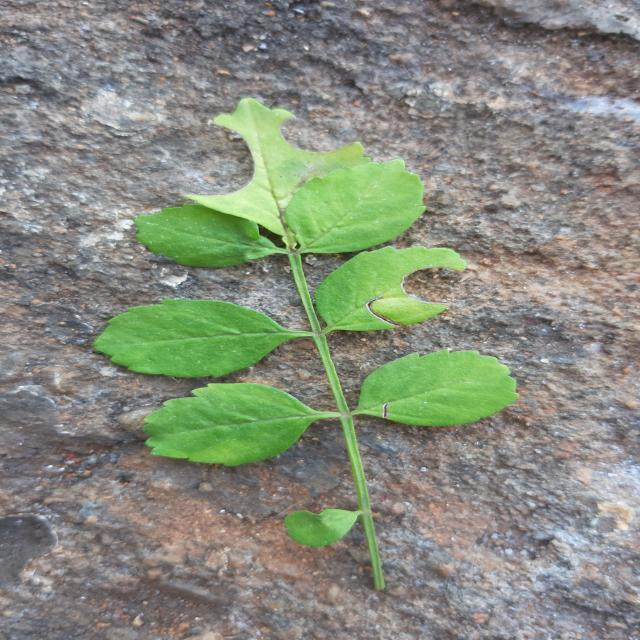defectedtecoma: (136, 99, 424, 268), (313, 248, 464, 331)
tecoma: (96, 98, 518, 515)
